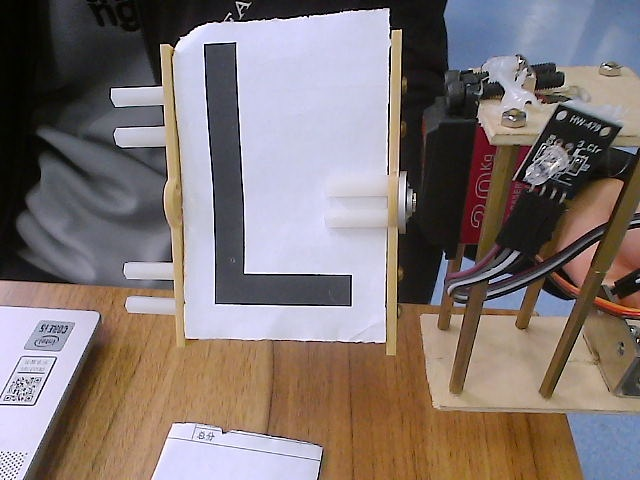L: (87, 6, 432, 367)
